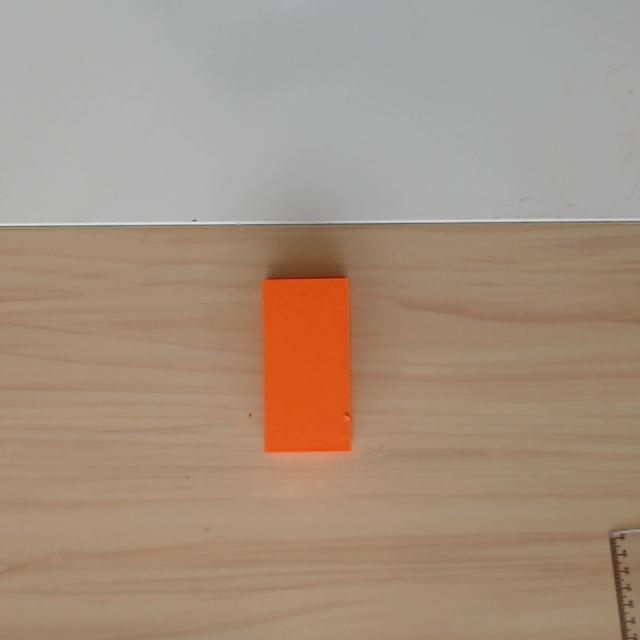Balok-Jingga-1005025: (258, 277, 353, 455)
